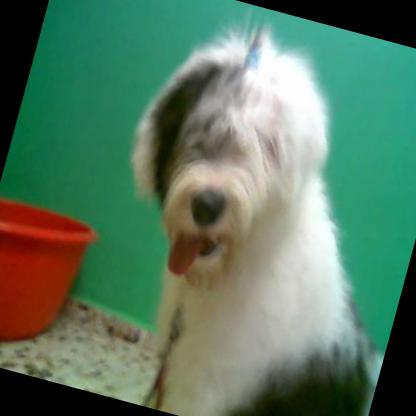Old_English_sheepdog: (67, 0, 416, 416)
